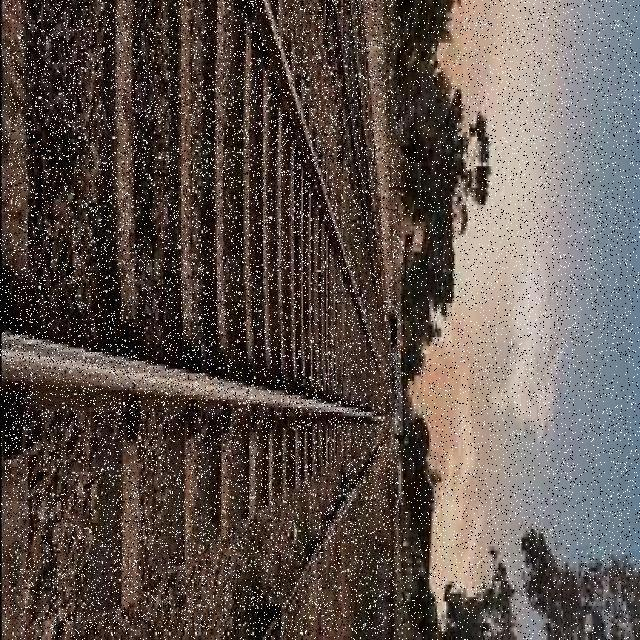rail: (6, 1, 401, 634)
